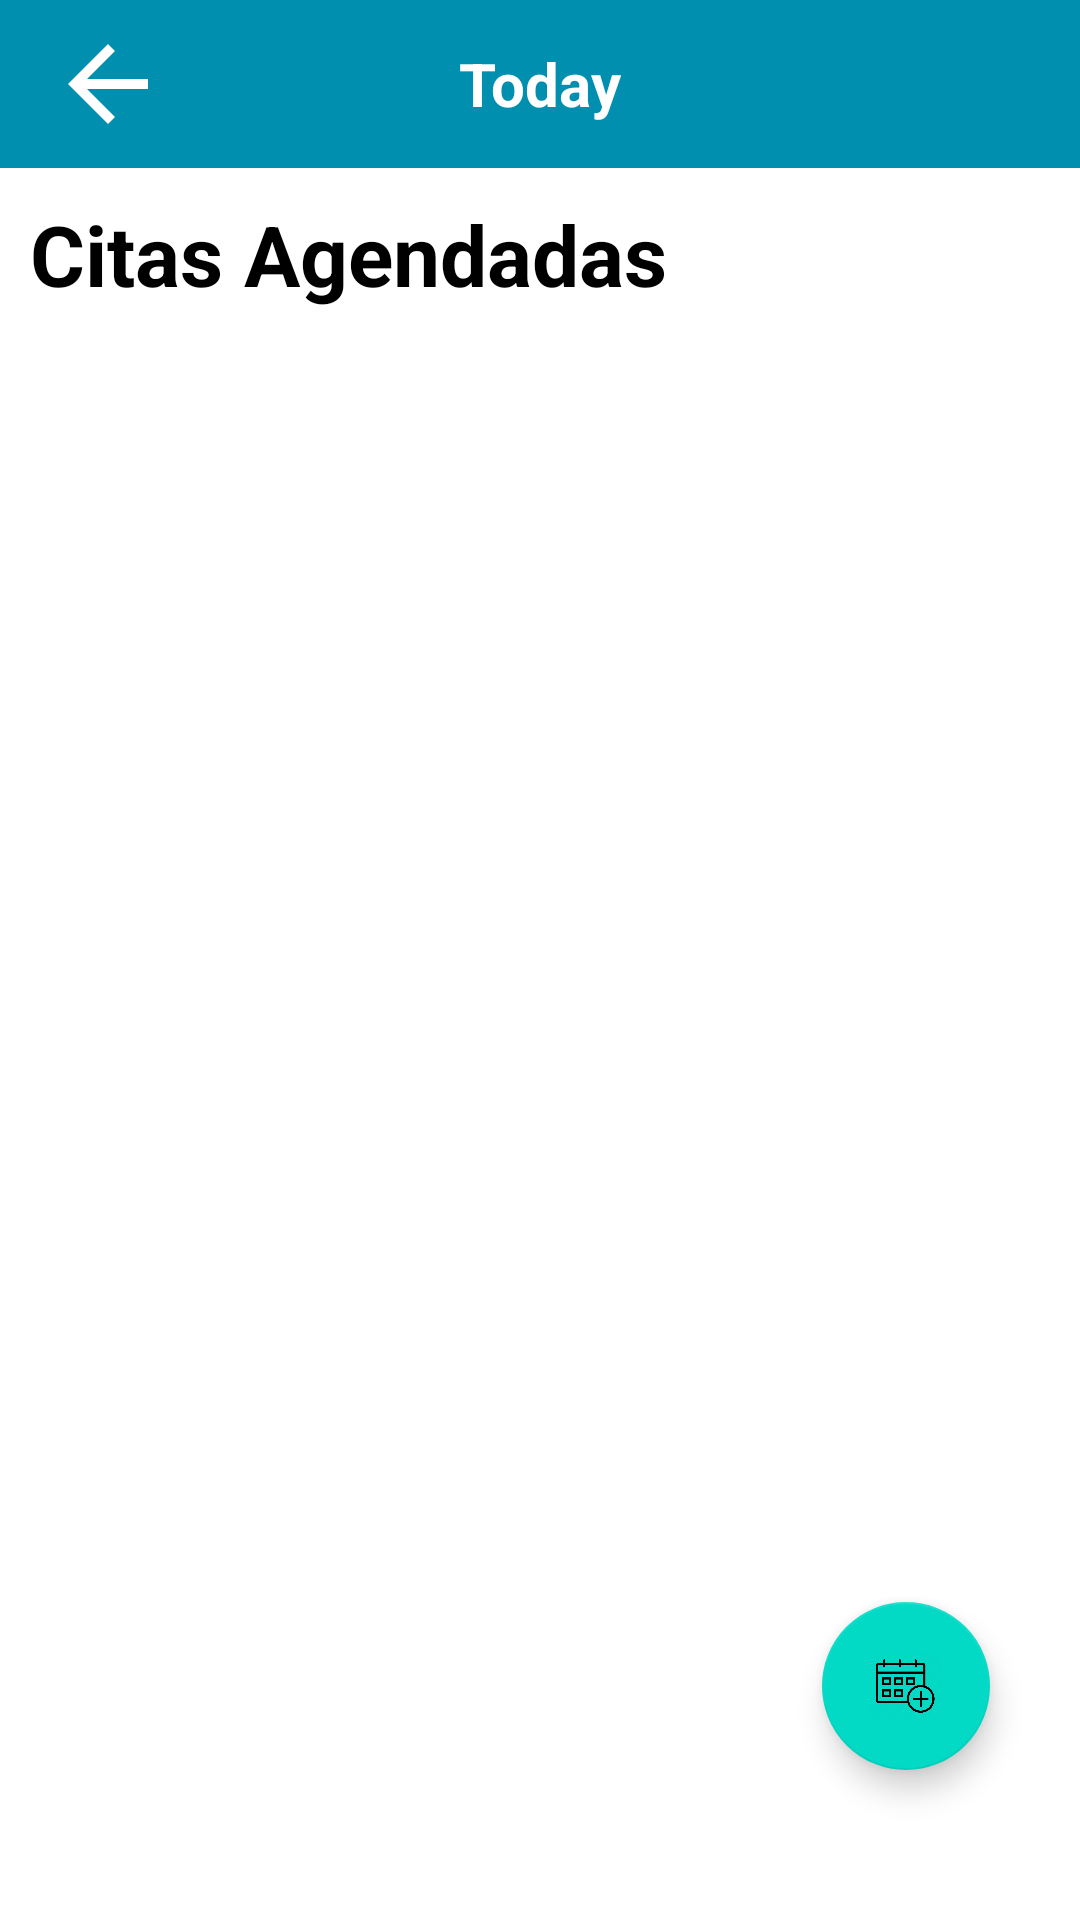

Point at icon controls on the screen. Image size 1080 × 1920, points as (x=x, y=y).
add appointment: (x=906, y=1686)
